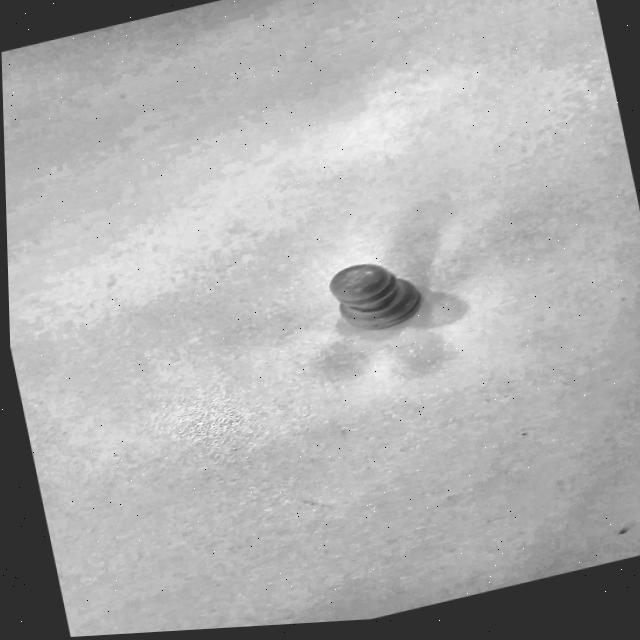white-pawn: (300, 237, 455, 368)
